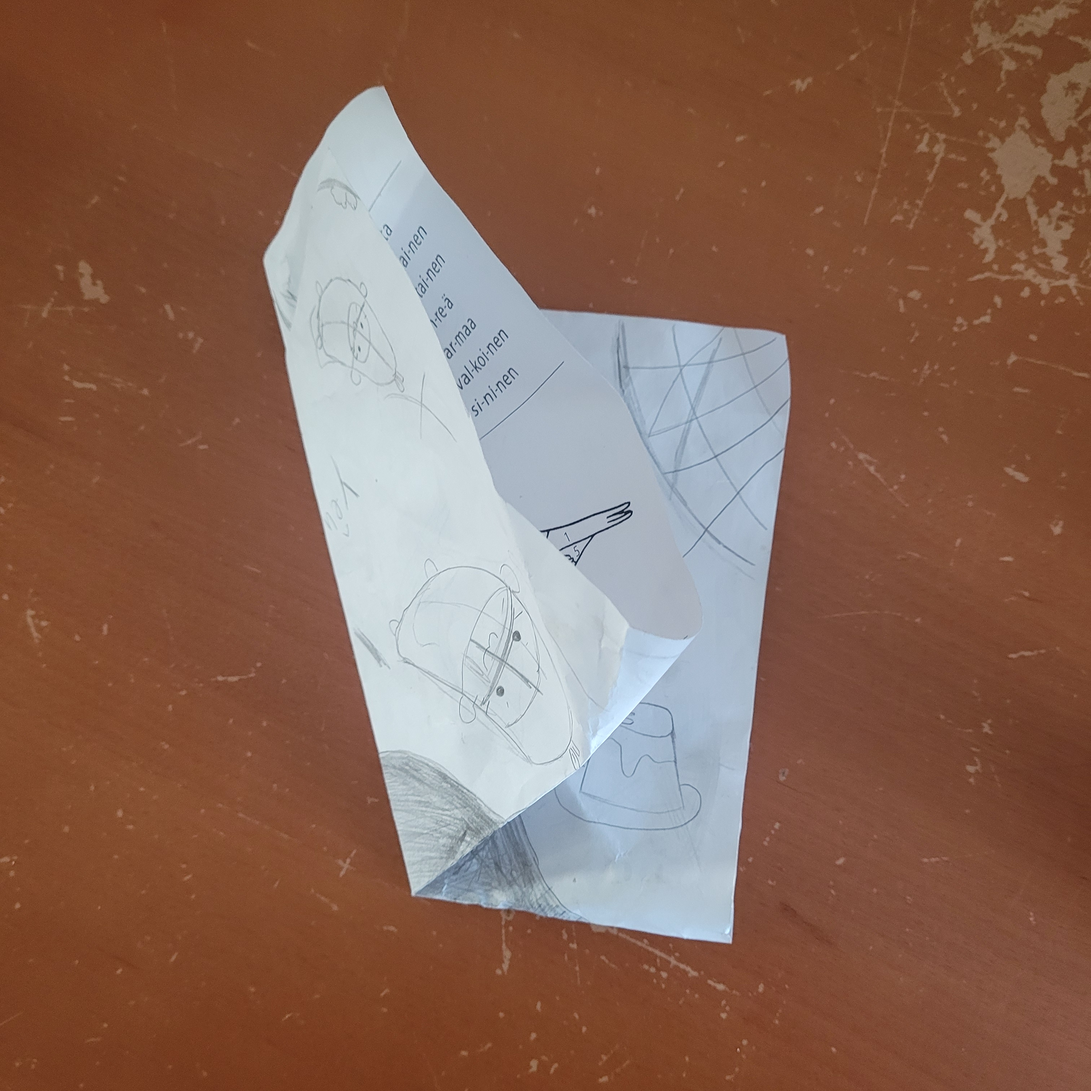paper: (259, 83, 796, 950)
